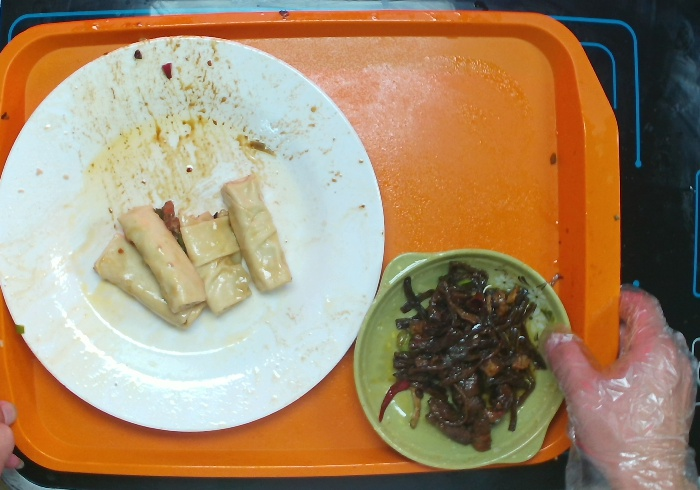NLDX-Da_Yuan_Pan: (1, 31, 389, 435)
NLDX-Lv_Hua_Shuang_Er_Die: (345, 244, 577, 475)
